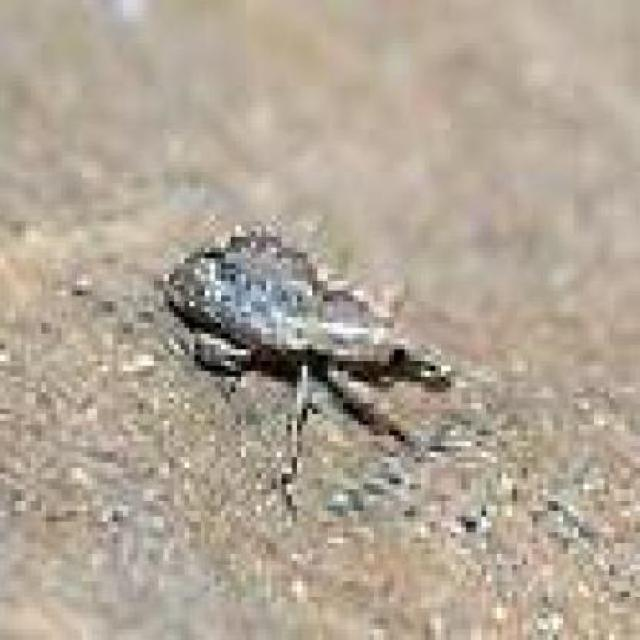rice-bug: (163, 226, 459, 454)
